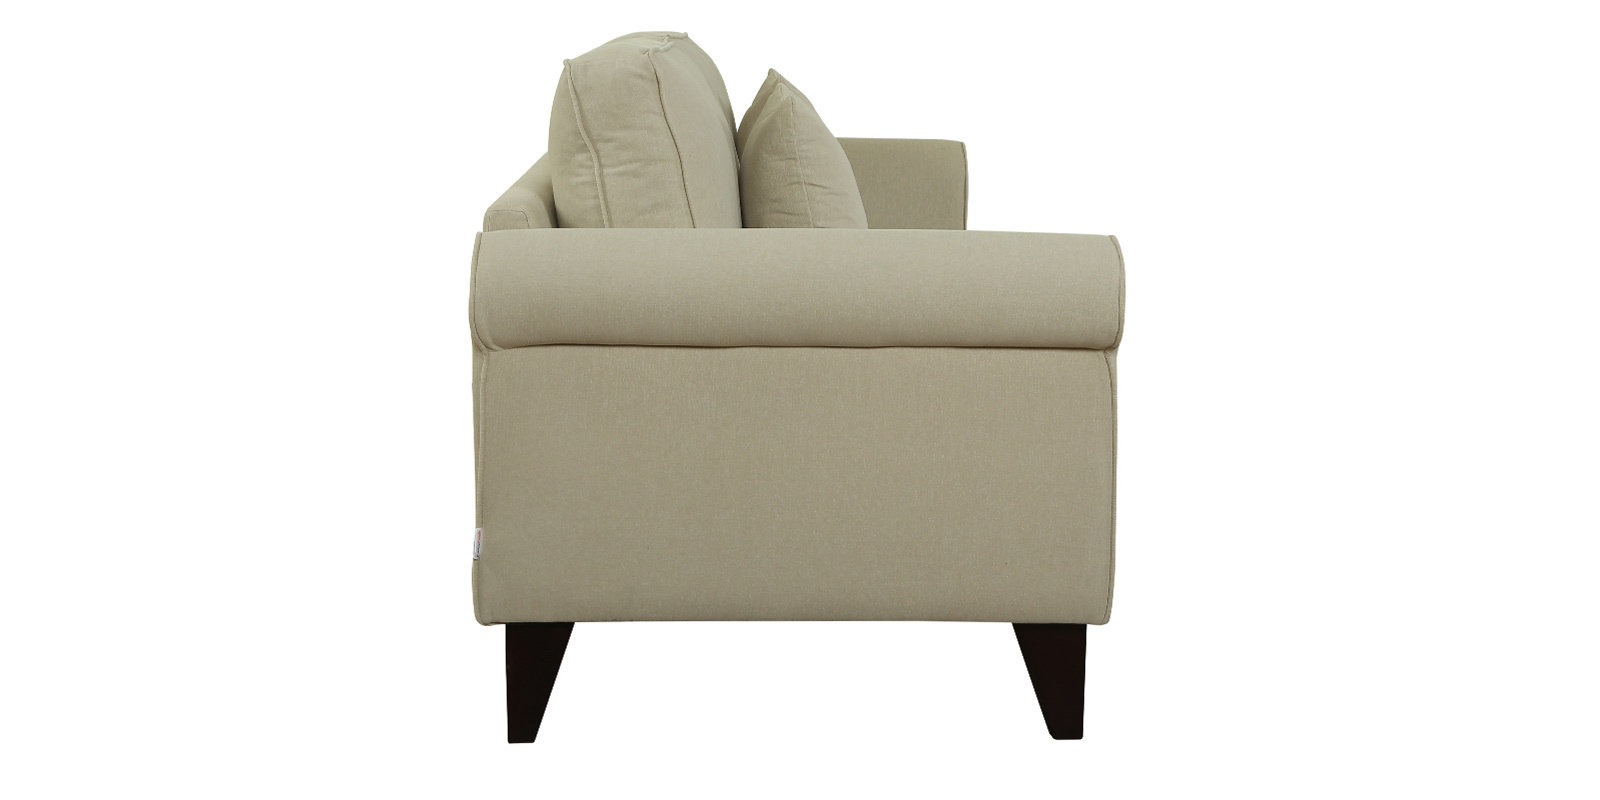Fuego Three Seater Sofa in Beige Colour by CasaCraft: (428, 8, 1142, 755)
